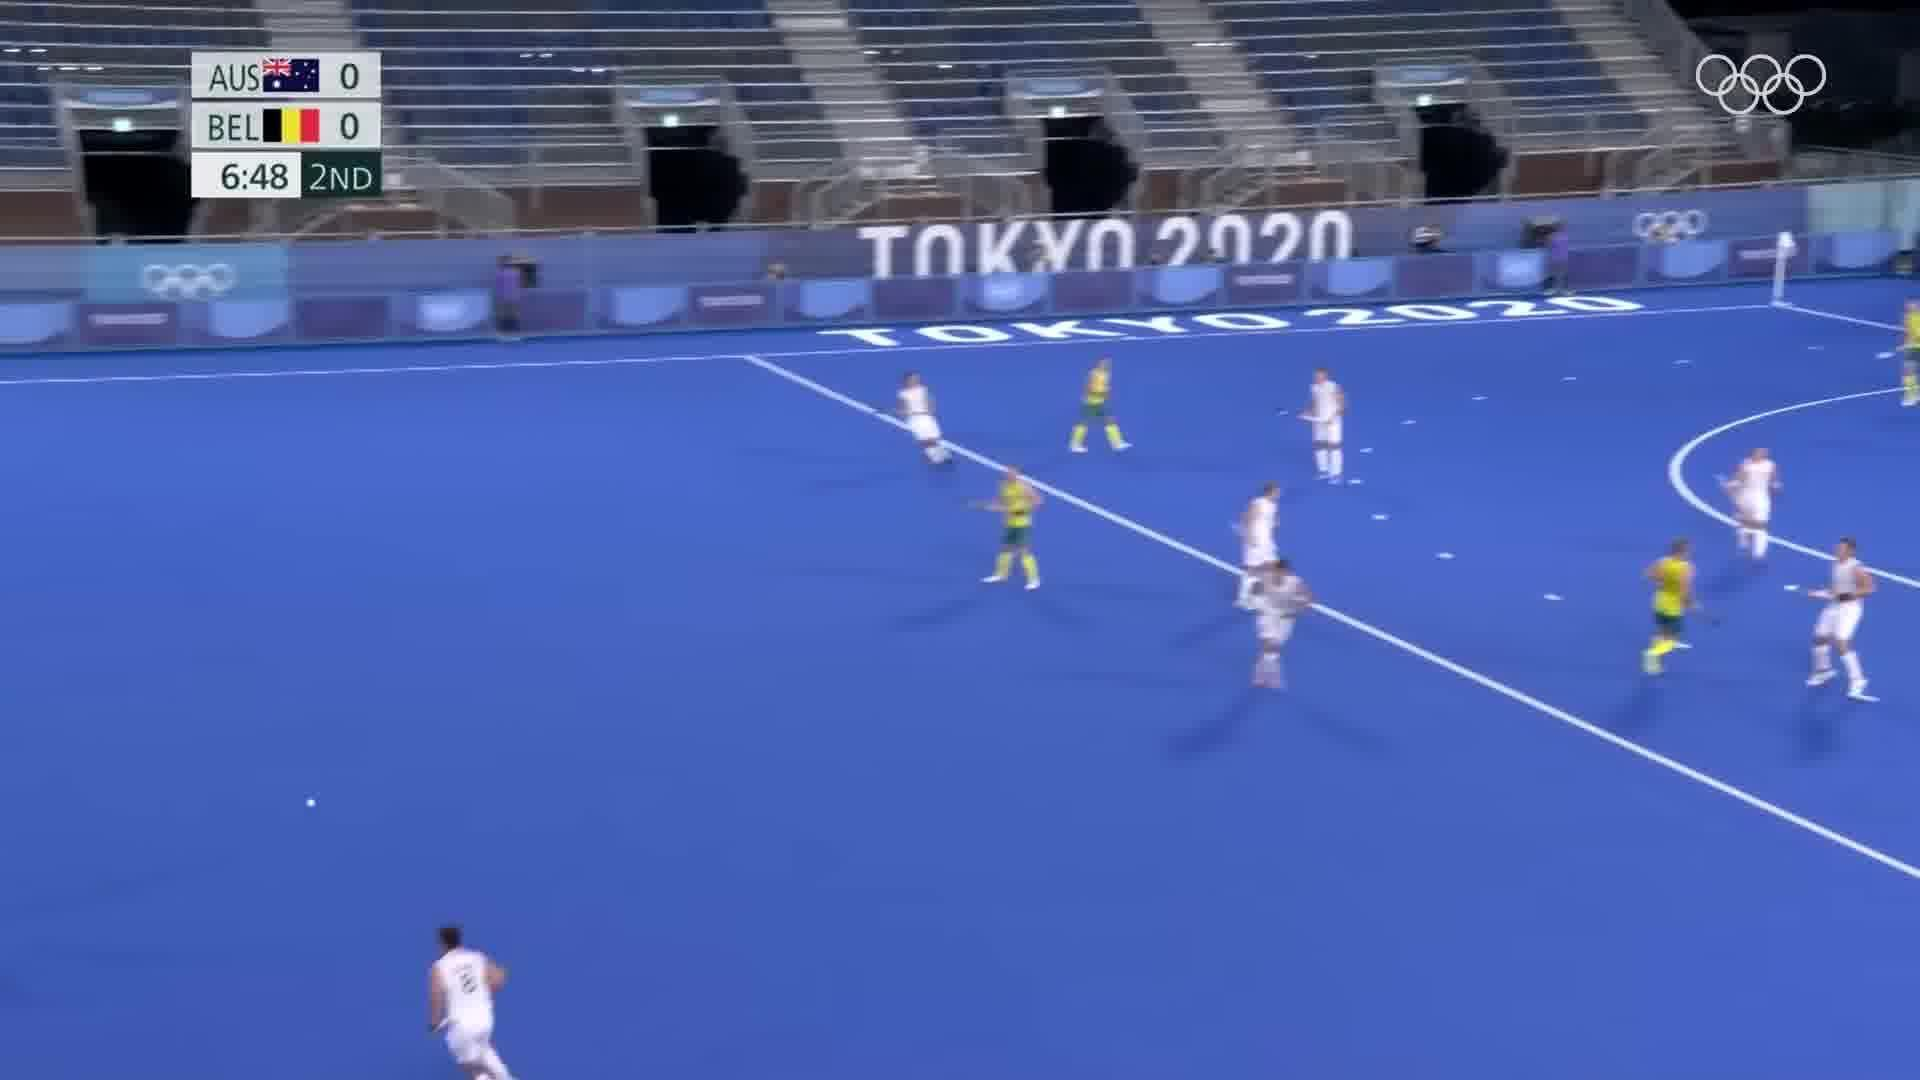ball: (298, 793, 320, 812)
